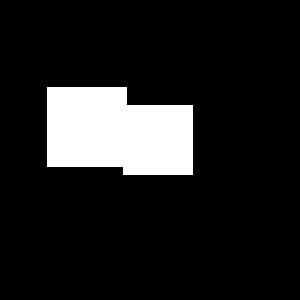circle: (47, 87, 127, 167), (123, 105, 193, 175)
